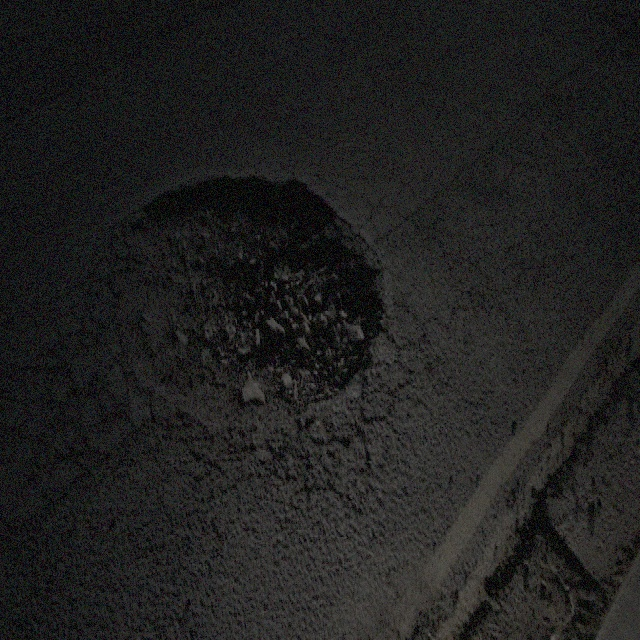pothole: (119, 164, 387, 428)
